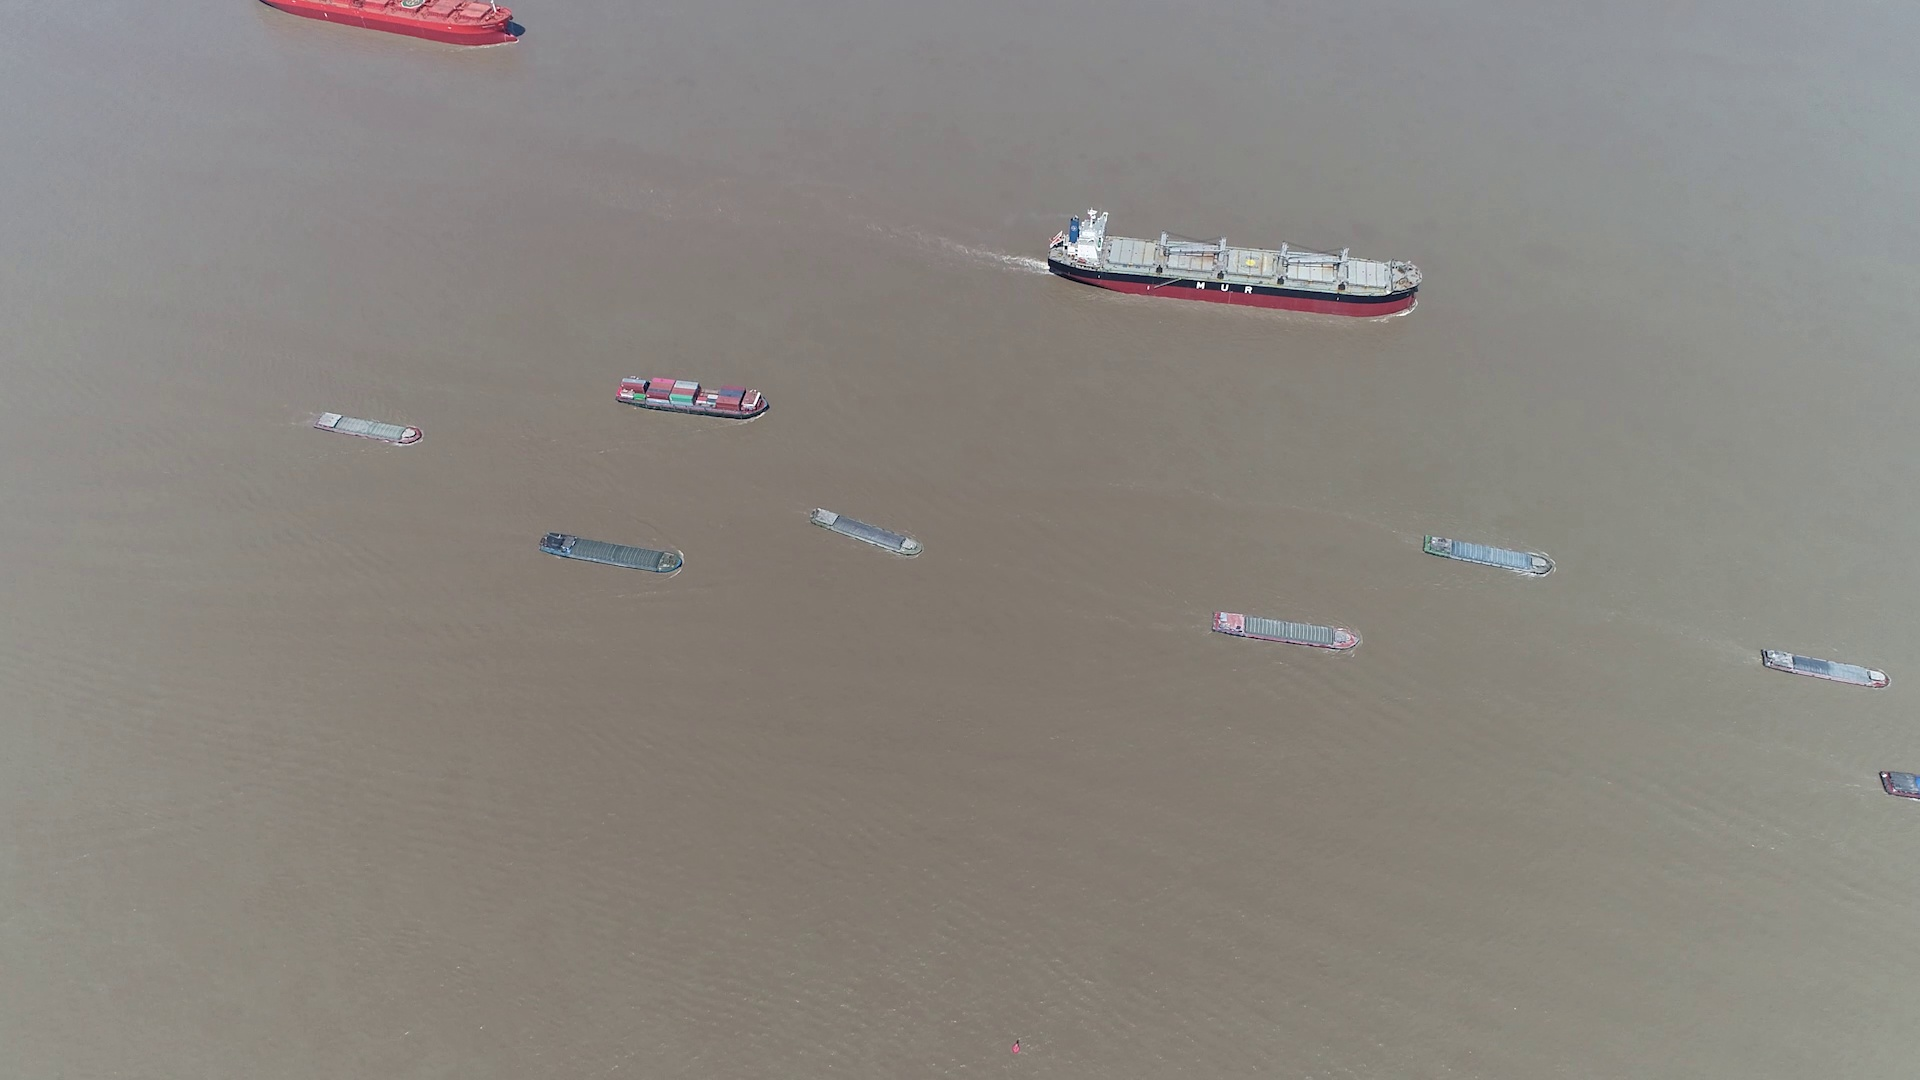ship: (1050, 211, 1419, 314), (258, 0, 525, 49), (616, 376, 770, 419), (1211, 608, 1360, 651), (541, 533, 688, 576), (1420, 535, 1555, 578), (1759, 646, 1892, 688), (811, 508, 923, 558), (311, 409, 422, 444), (1879, 771, 1920, 802)
